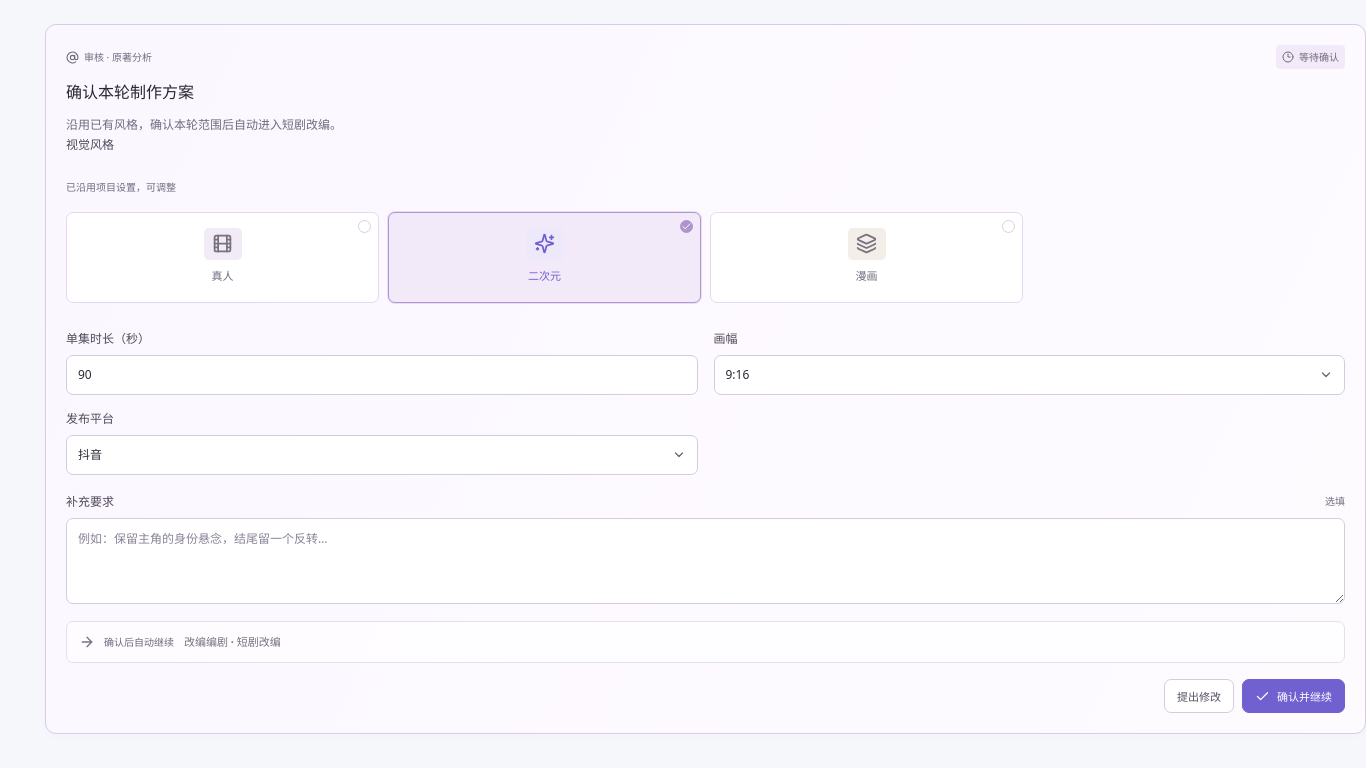
Test: structured workflow approvals › sends only revision feedback when unfinished production fields are empty or invalid
Click the button "漫画" at [866, 257], box x1=710 y1=212 x2=1023 y2=303
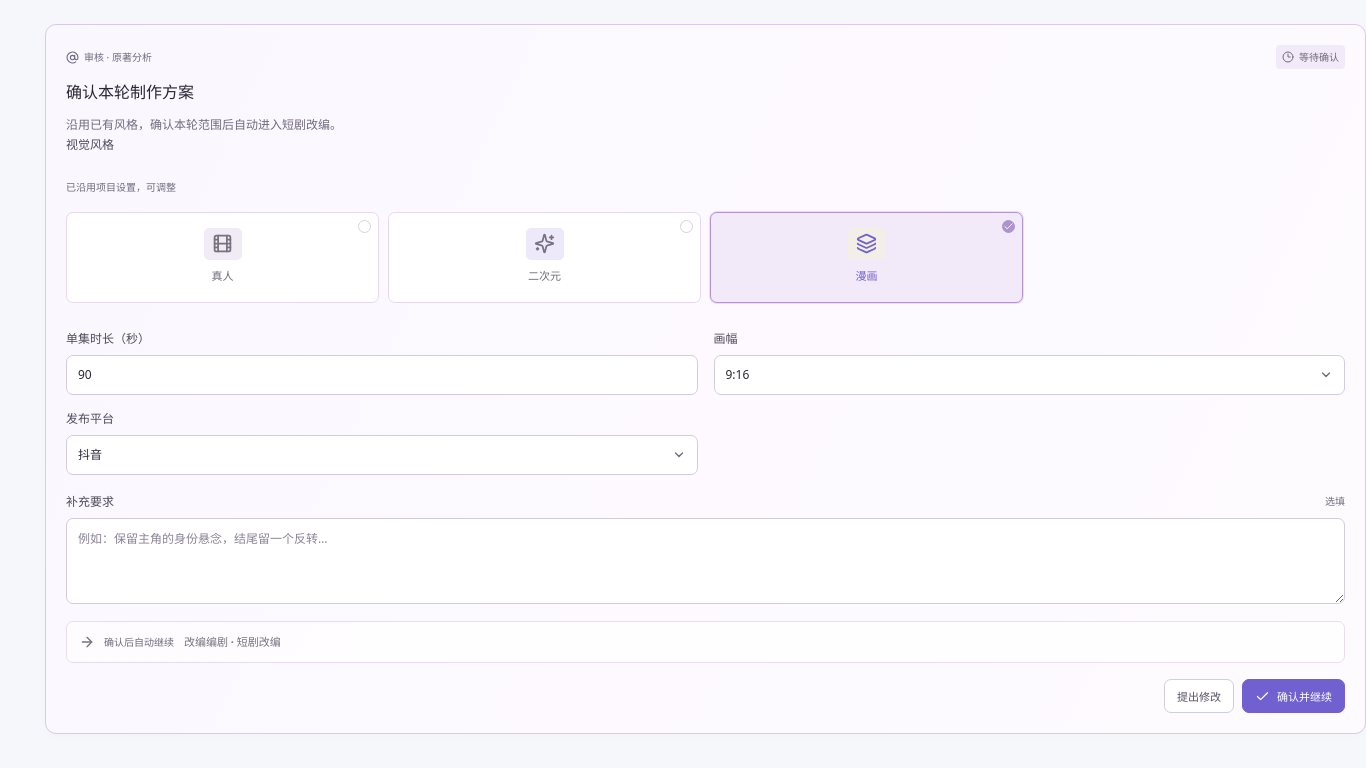
Replace the text in the field labelled "单集时长（秒）" with "0" at [382, 375], box x1=66 y1=355 x2=698 y2=395
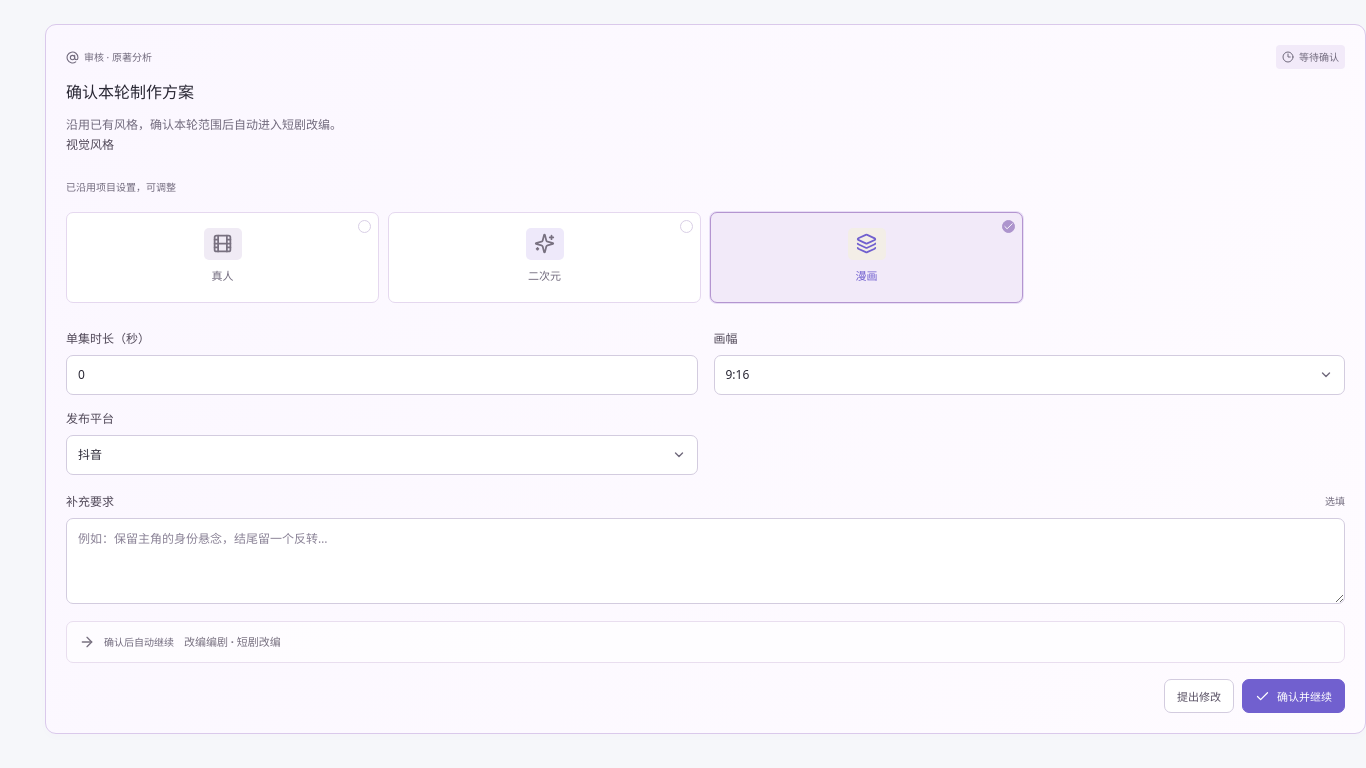
Click the button "提出修改" at [1199, 696], box x1=1164 y1=680 x2=1234 y2=714
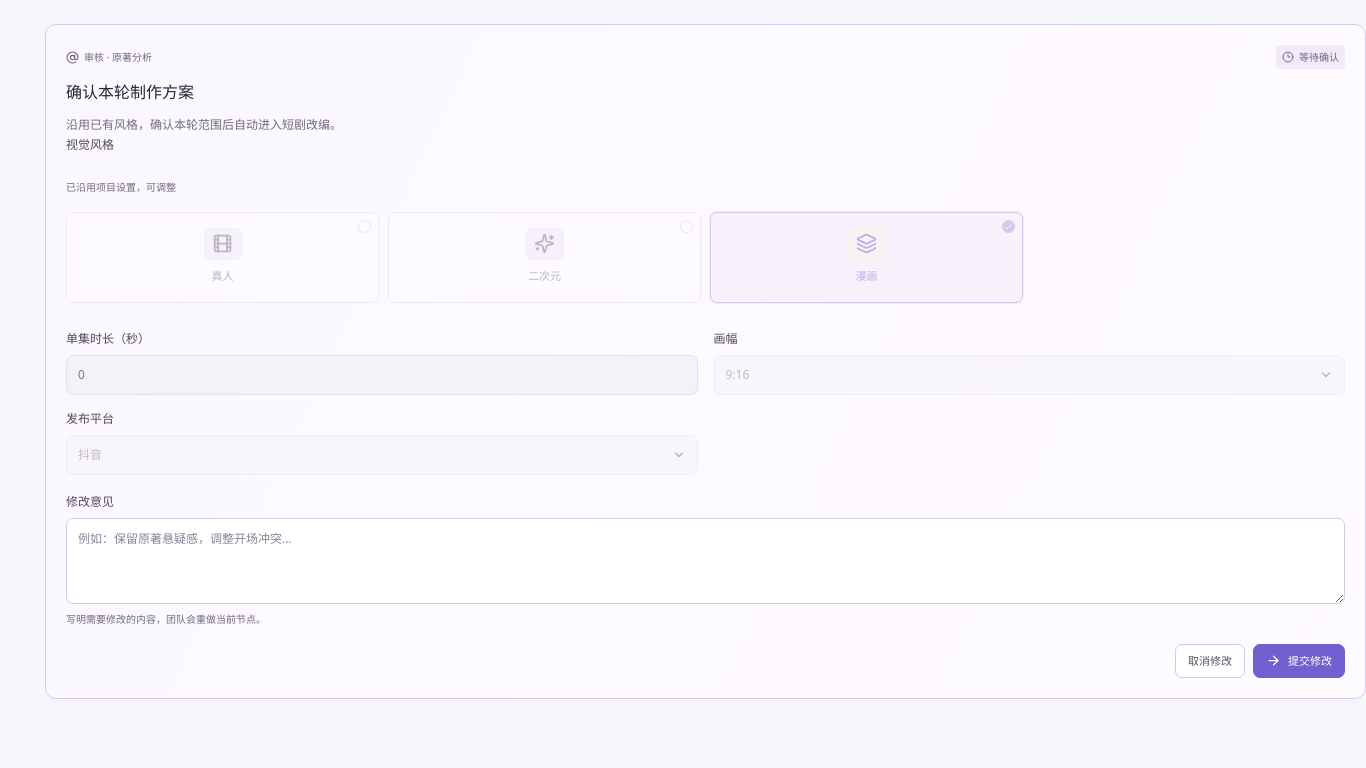
Type "请先补充原文依据，再确定制作范围" into the text box labelled "修改意见" at [706, 561], box x1=66 y1=518 x2=1345 y2=604
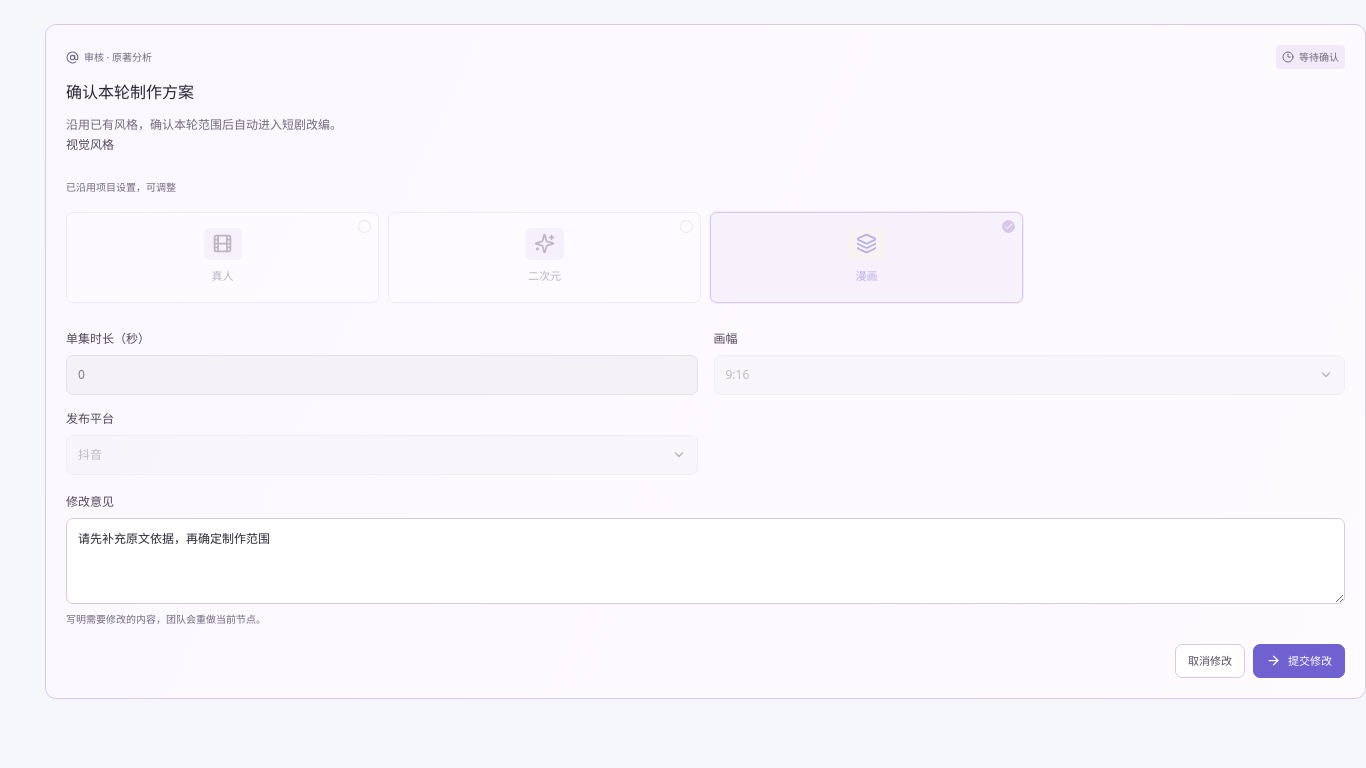
Click the button "提交修改" at [1299, 661], box x1=1253 y1=644 x2=1345 y2=678
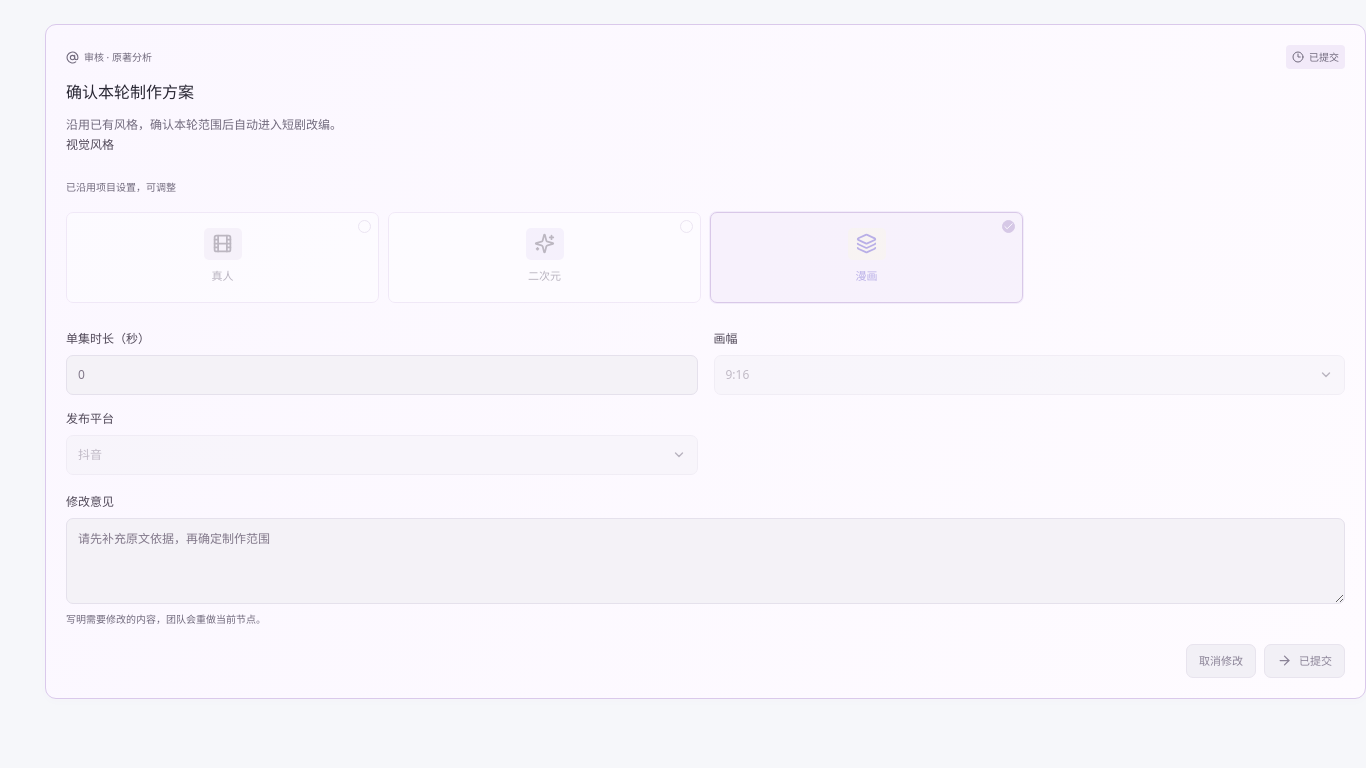
Check: the button "已提交" is shown, box x1=1264 y1=644 x2=1345 y2=678
